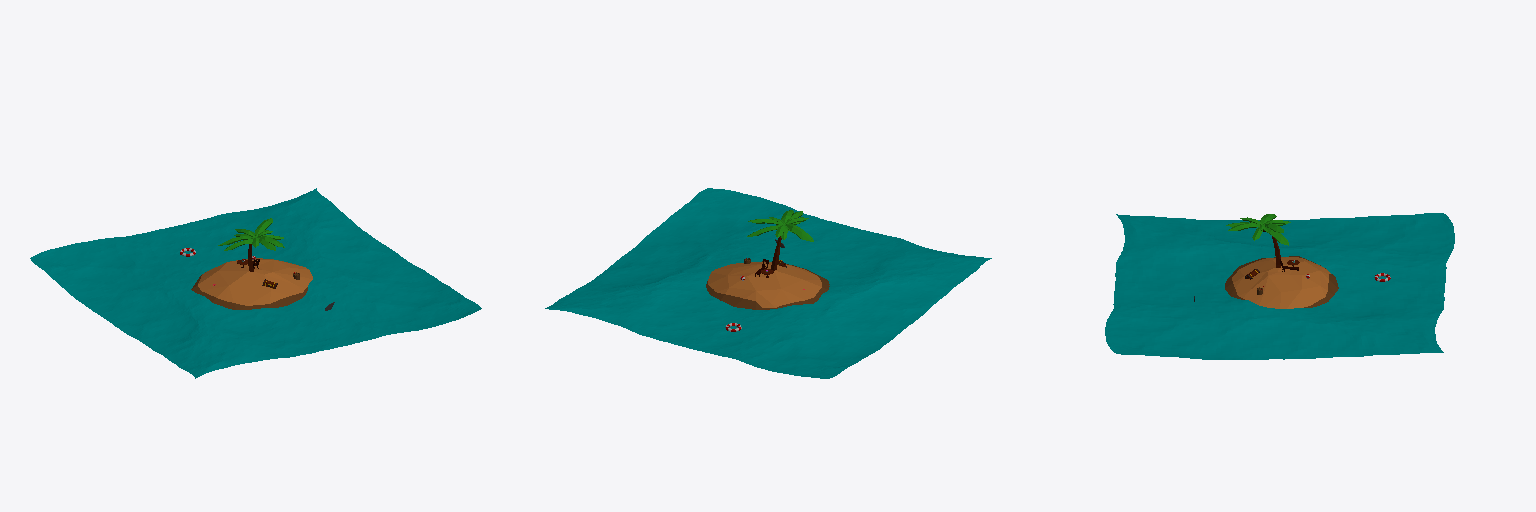
The model's file is isla_result.obj.
3 views of the same model, side by side, from view 1: azimuth 30°, elevation 25°; view 2: azimuth 150°, elevation 25°; view 3: azimuth 270°, elevation 25° (orthographic).
Visible parts, largest first — view 1: Plane, Mesh.004_Isla_Plane.002, Mesh.005_Palmera_Hojas_Plane.0; view 2: Plane, Mesh.004_Isla_Plane.002, Mesh.005_Palmera_Hojas_Plane.0; view 3: Plane, Mesh.004_Isla_Plane.002, Mesh.005_Palmera_Hojas_Plane.0.
Boxes of the visible parts, <box> form: Plane: <box>30,188,481,378</box>; Mesh.004_Isla_Plane.002: <box>191,258,312,309</box>; Mesh.005_Palmera_Hojas_Plane.0: <box>218,218,284,250</box>; Plane: <box>545,188,991,378</box>; Mesh.004_Isla_Plane.002: <box>706,261,829,309</box>; Mesh.005_Palmera_Hojas_Plane.0: <box>747,210,813,241</box>; Plane: <box>1105,213,1454,359</box>; Mesh.004_Isla_Plane.002: <box>1225,256,1338,308</box>; Mesh.005_Palmera_Hojas_Plane.0: <box>1226,214,1290,245</box>.
Bounding box in the file's own units: 51 × 11.28 × 53.09.